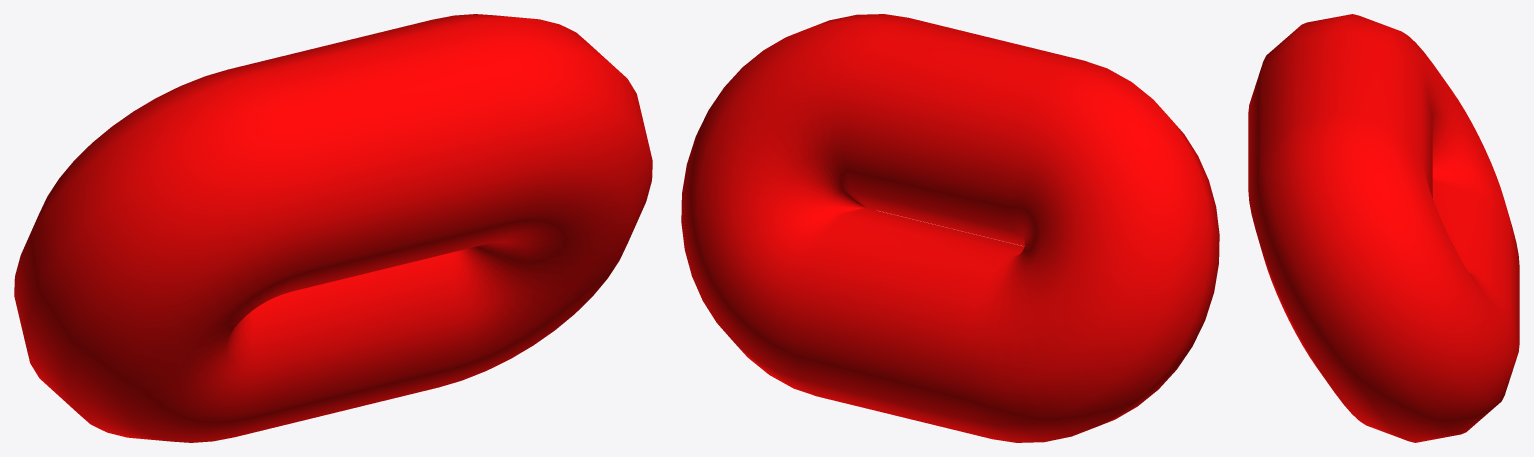
Rendered from Mouth1.glb.
The picture shows the model from 3 angles, left to right: view 1: azimuth 30°, elevation 25°; view 2: azimuth 150°, elevation 25°; view 3: azimuth 270°, elevation 25°; orthographic projection. The views are drawn at different scales.
Parts seen in each view (by area): view 1: Mouth1; view 2: Mouth1; view 3: Mouth1.
Part boxes in pixels (x1,y1,x2,y2): Mouth1: (14, 14, 652, 442); Mouth1: (681, 14, 1219, 442); Mouth1: (1248, 14, 1519, 442).
Size of the model in its own units: 60.06 by 37.63 by 29.41.
